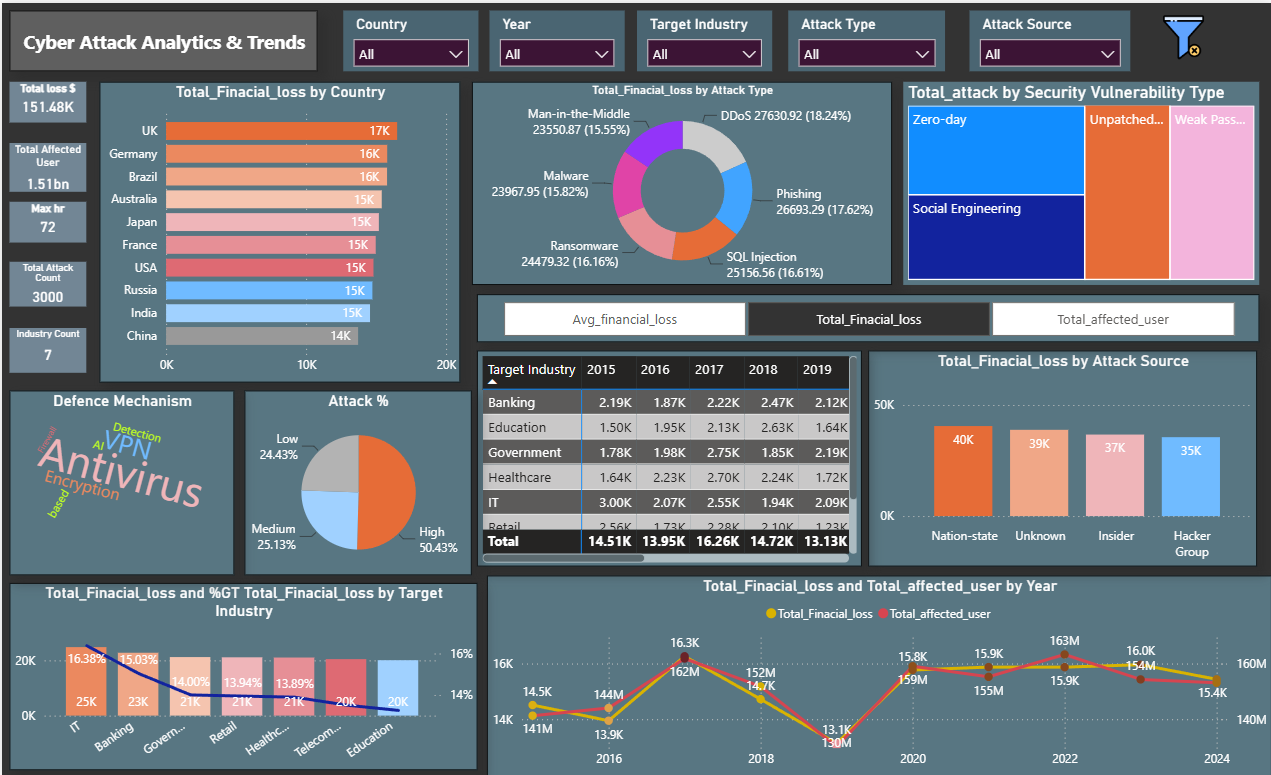

The page's visual inventory and layout, read from the dashboard file:
{"tool":"powerbi","page":{"name":"cycber_attach_dashboards","canvas":[1270,774],"ordinal":0},"visuals":[{"type":"textbox","box":[7,7,308,61],"z":0},{"type":"slicer","fields":{"Values":["Global_Cybersecurity_Threats_20.Country"]},"box":[341.8,7.3,135.5,60.9],"z":1000},{"type":"slicer","fields":{"Values":["Global_Cybersecurity_Threats_20.Year"]},"box":[488,7,135,61],"z":2000},{"type":"slicer","fields":{"Values":["Global_Cybersecurity_Threats_20.Target Industry"]},"box":[635,7,135,61],"z":3000},{"type":"slicer","fields":{"Values":["Attack_desc.Attack Type"]},"box":[786,7,157,61],"z":4000},{"type":"slicer","fields":{"Values":["Global_Cybersecurity_Threats_20.Attack Source"]},"box":[968,7,161,61],"z":5000},{"type":"card","title":"Total loss $","fields":{"Values":["Measure.Total_Finacial_loss"]},"box":[7,79,77,41],"z":6000},{"type":"card","title":"Total Affected User","fields":{"Values":["Measure.Total_affected_user"]},"box":[7,140,77,49],"z":7000},{"type":"card","title":"Max hr","fields":{"Values":["Measure.Max_hr"]},"box":[7,199,77,41],"z":8000},{"type":"card","title":"Total Attack Count","fields":{"Values":["Measure.Total_attack"]},"box":[7,259,77,45],"z":9000},{"type":"card","title":"Industry Count","fields":{"Values":["Measure.Target_Industry_count"]},"box":[7,325,77,45],"z":10000},{"type":"clusteredBarChart","fields":{"Category":["Global_Cybersecurity_Threats_20.Country"],"Y":["Measure.Total_Finacial_loss"]},"box":[97,79,361,301],"z":11000},{"type":"donutChart","fields":{"Category":["Attack_desc.Attack Type"],"Y":["Measure.Total_Finacial_loss"]},"box":[470,79,420,203],"z":12000},{"type":"treemap","fields":{"Group":["Global_Cybersecurity_Threats_20.Security Vulnerability Type"],"Values":["Measure.Total_attack"]},"box":[901,79,356,203],"z":13000},{"type":"lineChart","fields":{"Category":["Global_Cybersecurity_Threats_20.Year"],"Y":["Measure.Total_Finacial_loss"],"Y2":["Measure.Total_affected_user"]},"box":[485,573,785,201],"z":14000},{"type":"columnChart","fields":{"Y":["Measure.Total_Finacial_loss"],"Category":["Global_Cybersecurity_Threats_20.Attack Source"]},"box":[866,348,389,216],"z":15000},{"type":"slicer","fields":{"Values":["Metrix.Metrix"]},"box":[475,291,782,48],"z":16000},{"type":"pivotTable","fields":{"Values":["Measure.Total_Finacial_loss"],"Rows":["Global_Cybersecurity_Threats_20.Target Industry"],"Columns":["Global_Cybersecurity_Threats_20.Year"]},"box":[475,348,385,216],"z":17000},{"type":"pieChart","title":"Attack %","fields":{"Category":["Global_Cybersecurity_Threats_20.User_Impact"],"Y":["Measure.Total_attack"]},"box":[243,387,227,185],"z":18000},{"type":"lineStackedColumnComboChart","fields":{"Category":["Global_Cybersecurity_Threats_20.Target Industry"],"Y":["Measure.Total_Finacial_loss"],"Y2":["Divide(Measure.Total_Finacial_loss, ScopedEval(Measure.Total_Finacial_loss, []))"]},"box":[7,580,468,187],"z":19000},{"type":"WordCloud1447959067750","title":"Defence Mechanism","fields":{"Values":["Measure.Total_Finacial_loss"],"Category":["Global_Cybersecurity_Threats_20.Defense Mechanism Used"]},"box":[7,387,225,185],"z":20000},{"type":"image","box":[1139,7,85,54],"z":21000}]}

Visuals, with their boxes in screenshot pixels (x1, y1, x2, y2), scaled from the page's 1270x774 canvas onto the 1271x775 screenshot:
textbox: l=7, t=7, r=315, b=68
slicer - Global_Cybersecurity_Threats_20.Country: l=342, t=7, r=478, b=68
slicer - Global_Cybersecurity_Threats_20.Year: l=488, t=7, r=623, b=68
slicer - Global_Cybersecurity_Threats_20.Target Industry: l=635, t=7, r=771, b=68
slicer - Attack_desc.Attack Type: l=787, t=7, r=944, b=68
slicer - Global_Cybersecurity_Threats_20.Attack Source: l=969, t=7, r=1130, b=68
"Total loss $" card: l=7, t=79, r=84, b=120
"Total Affected User" card: l=7, t=140, r=84, b=189
"Max hr" card: l=7, t=199, r=84, b=240
"Total Attack Count" card: l=7, t=259, r=84, b=304
"Industry Count" card: l=7, t=325, r=84, b=370
clusteredBarChart - Global_Cybersecurity_Threats_20.Country x Measure.Total_Finacial_loss: l=97, t=79, r=458, b=380
donutChart - Attack_desc.Attack Type x Measure.Total_Finacial_loss: l=470, t=79, r=891, b=282
treemap - Global_Cybersecurity_Threats_20.Security Vulnerability Type x Measure.Total_attack: l=902, t=79, r=1258, b=282
lineChart - Global_Cybersecurity_Threats_20.Year x Measure.Total_Finacial_loss: l=485, t=574, r=1270, b=774
columnChart - Measure.Total_Finacial_loss x Global_Cybersecurity_Threats_20.Attack Source: l=867, t=348, r=1256, b=565
slicer - Metrix.Metrix: l=475, t=291, r=1258, b=339
pivotTable - Measure.Total_Finacial_loss x Global_Cybersecurity_Threats_20.Target Industry: l=475, t=348, r=861, b=565
"Attack %" pieChart: l=243, t=388, r=470, b=573
lineStackedColumnComboChart - Global_Cybersecurity_Threats_20.Target Industry x Measure.Total_Finacial_loss: l=7, t=581, r=475, b=768
"Defence Mechanism" WordCloud1447959067750: l=7, t=388, r=232, b=573
image: l=1140, t=7, r=1225, b=61
